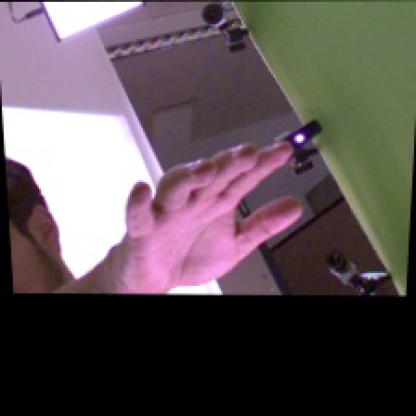Hand: (121, 140, 303, 293)
